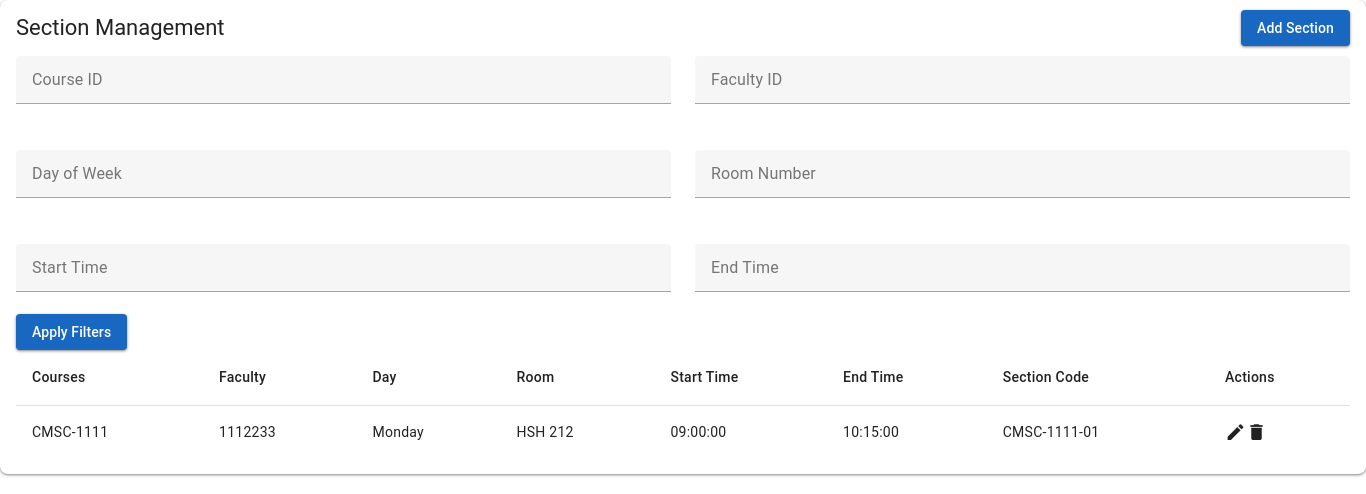
Test: Feature 5 — Section Management › US-5.3 — Remove Section › Admin deletes a section
Click the button named "Delete section" at (1256, 432), box [1246, 422, 1267, 443]
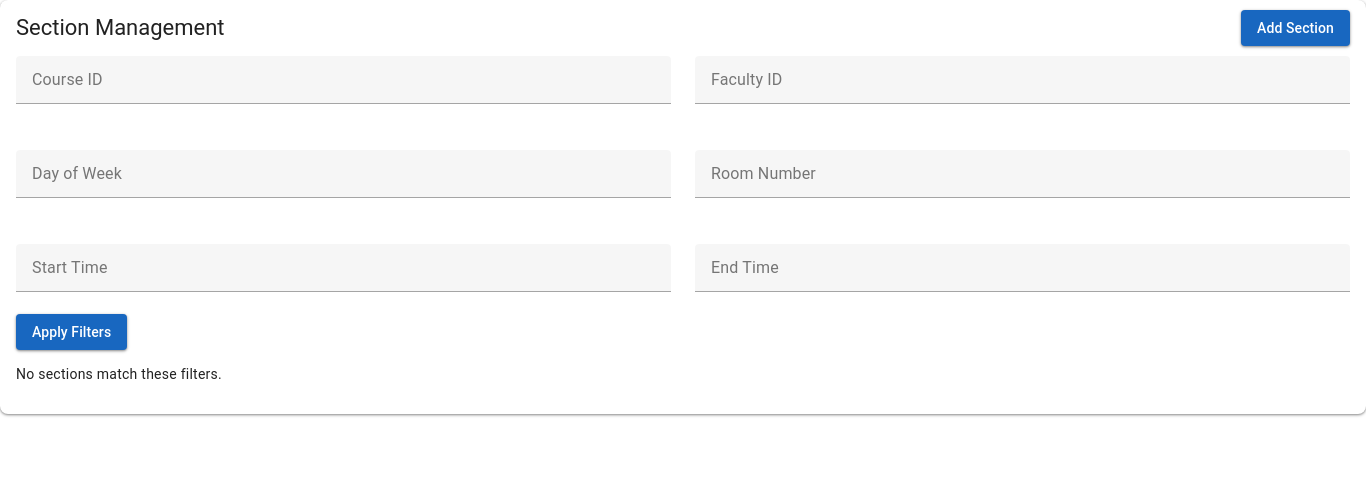
Now the text "CMSC-1111-01" is gone
